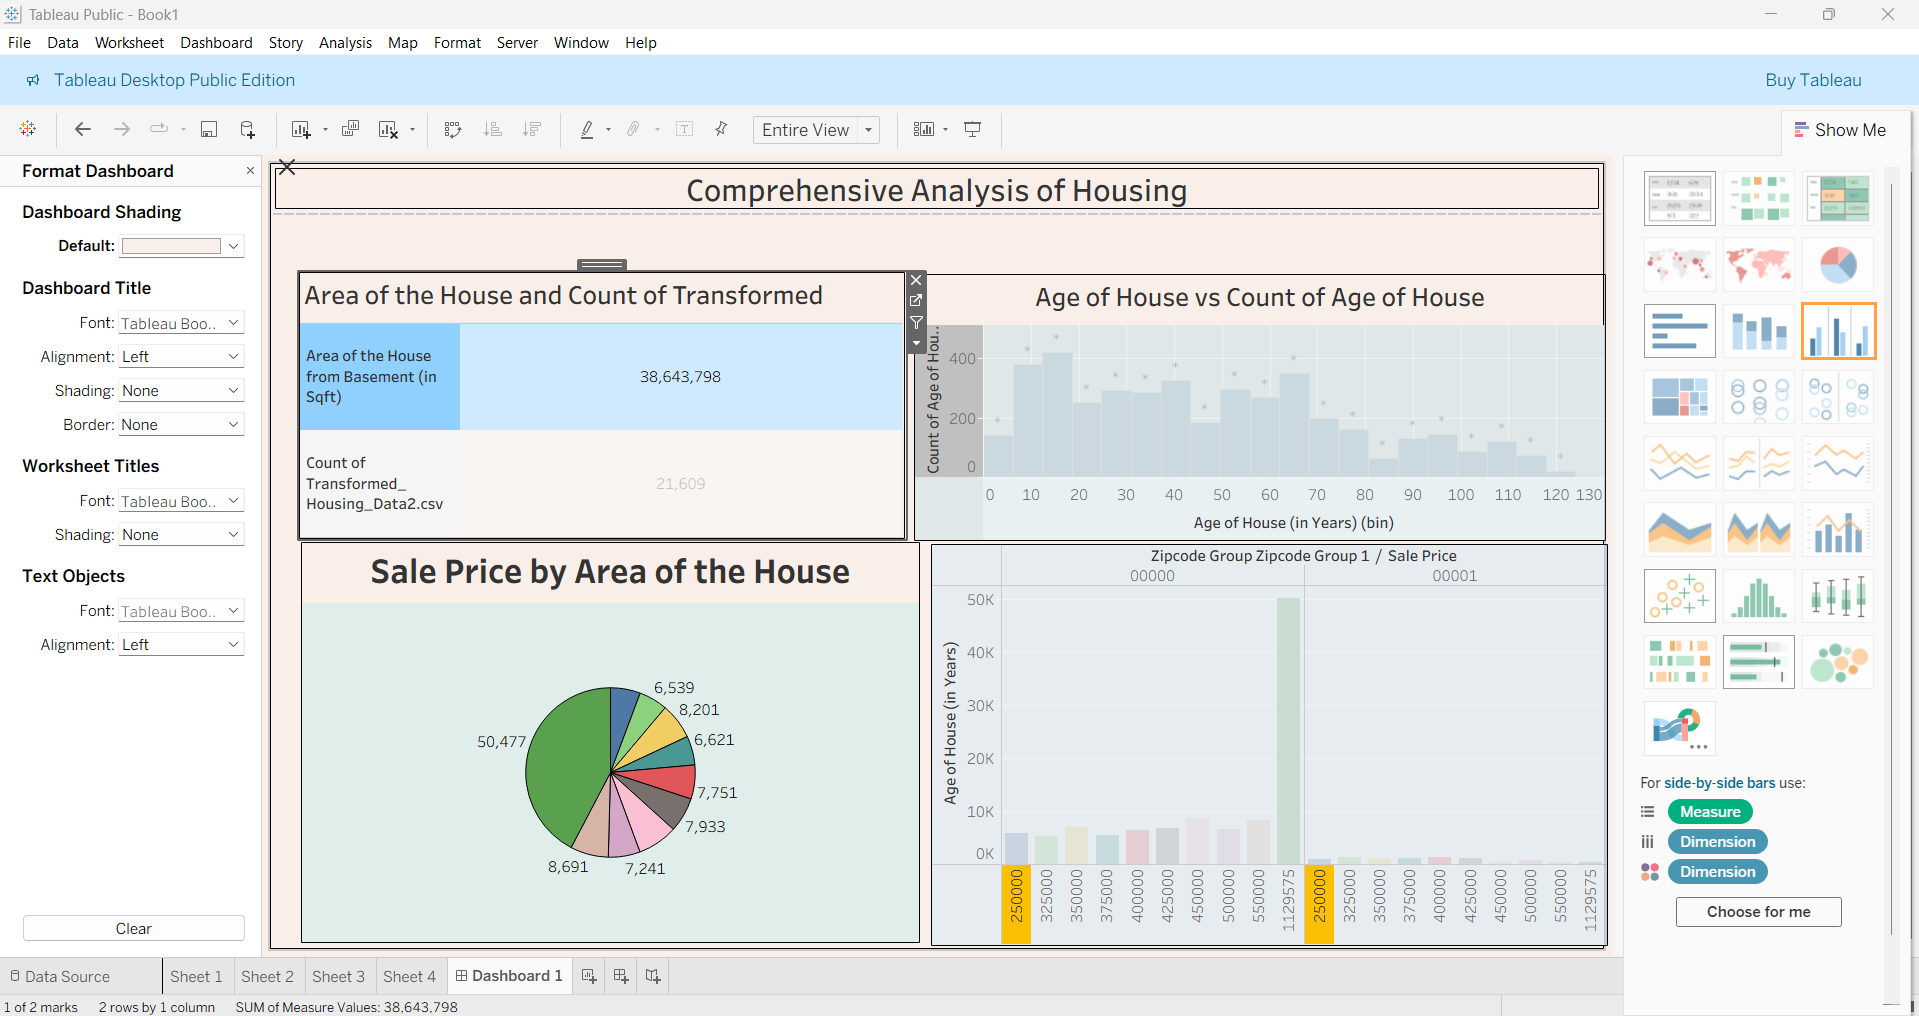

What the dashboard file says about the page in this screenshot:
{"tool":"tableau","page":{"name":"Dashboard 1","canvas":[1000,1000],"units":"permille","ordinal":0},"visuals":[{"type":"title","box":[6.7,11.2,986.7,61.1]},{"type":"worksheet","title":"Sheet 1","mark":"Automatic","box":[27.7,145.9,449.2,332.9]},{"type":"worksheet","title":"Sheet 2","mark":"Automatic","rows":["Age of House (in Years)"],"cols":["Age of House (in Years) (bin)"],"box":[483.1,148.4,512.3,332.9]},{"type":"worksheet","title":"Sheet 3","mark":"Pie","box":[29.2,482.5,458.5,500]},{"type":"worksheet","title":"Sheet 4","mark":"Automatic","rows":["Age of House (in Years)"],"cols":["Zipcode_Group_Zipcode_Group_1","Sale_Price"],"box":[495.4,485,501.5,501.2]}]}

Visuals, with their boxes on the dashboard's canvas, which has no fixed pixel size, in thousandths of its width and height (x1, y1, x2, y2). These are canvas units, not pixel positions in the 1919x1016 screenshot, which may show the page scaled, cropped or inside an application window:
title: <bbox>7, 11, 993, 72</bbox>
"Sheet 1" worksheet: <bbox>28, 146, 477, 479</bbox>
"Sheet 2" worksheet: <bbox>483, 148, 995, 481</bbox>
"Sheet 3" worksheet (Pie marks): <bbox>29, 482, 488, 982</bbox>
"Sheet 4" worksheet: <bbox>495, 485, 997, 986</bbox>
